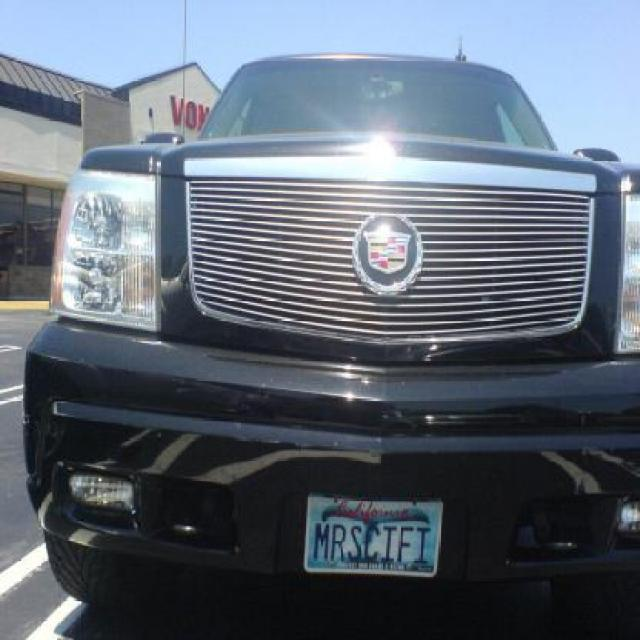License-Plates: (304, 494, 443, 578)
